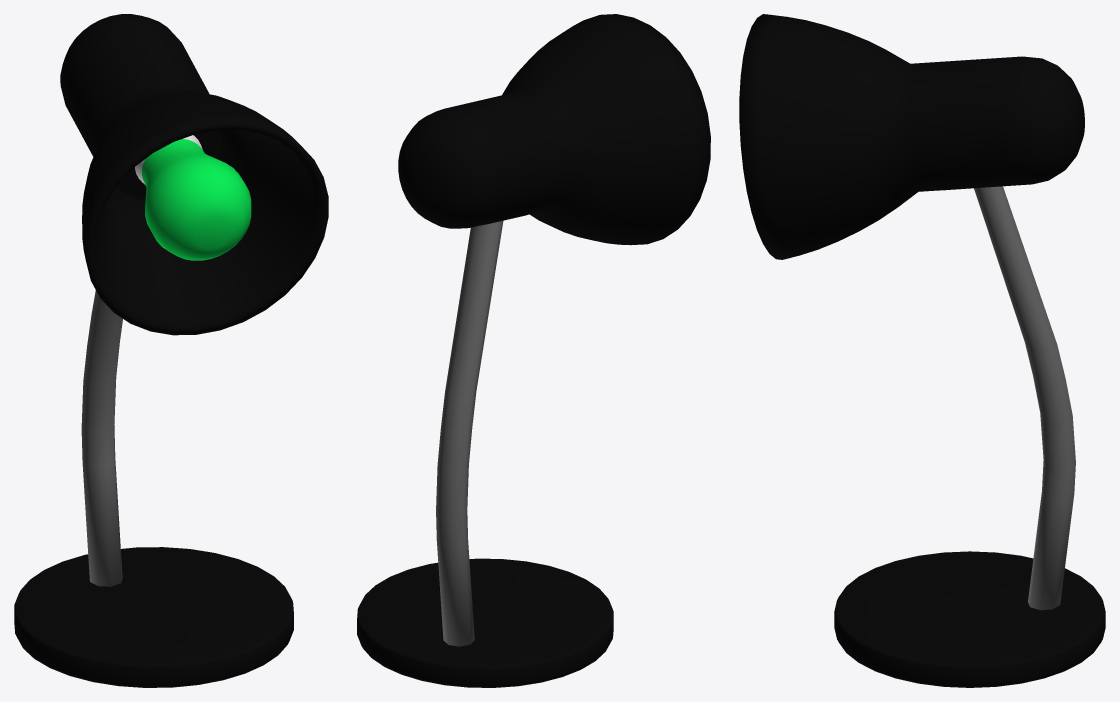
Rendered from AMPA.fbx.
3 renders of one model, left to right at view 1: azimuth 30°, elevation 25°; view 2: azimuth 150°, elevation 25°; view 3: azimuth 270°, elevation 25°, orthographic. The views are drawn at different scales.
Parts seen in each view (by area): view 1: plafon, base, lamp, holder.001; view 2: plafon, base, holder.001; view 3: plafon, base, holder.001.
Part boxes in pixels (left/top/right/bottom): plafon: left=60, top=14, right=328, bottom=335; base: left=14, top=547, right=293, bottom=687; lamp: left=135, top=135, right=251, bottom=260; holder.001: left=81, top=290, right=122, bottom=586; plafon: left=398, top=14, right=710, bottom=245; base: left=357, top=558, right=613, bottom=687; holder.001: left=436, top=221, right=503, bottom=646; plafon: left=739, top=14, right=1084, bottom=259; base: left=834, top=551, right=1105, bottom=687; holder.001: left=974, top=186, right=1075, bottom=610.
Bounding box in the file's own units: 484 × 999 × 570.
